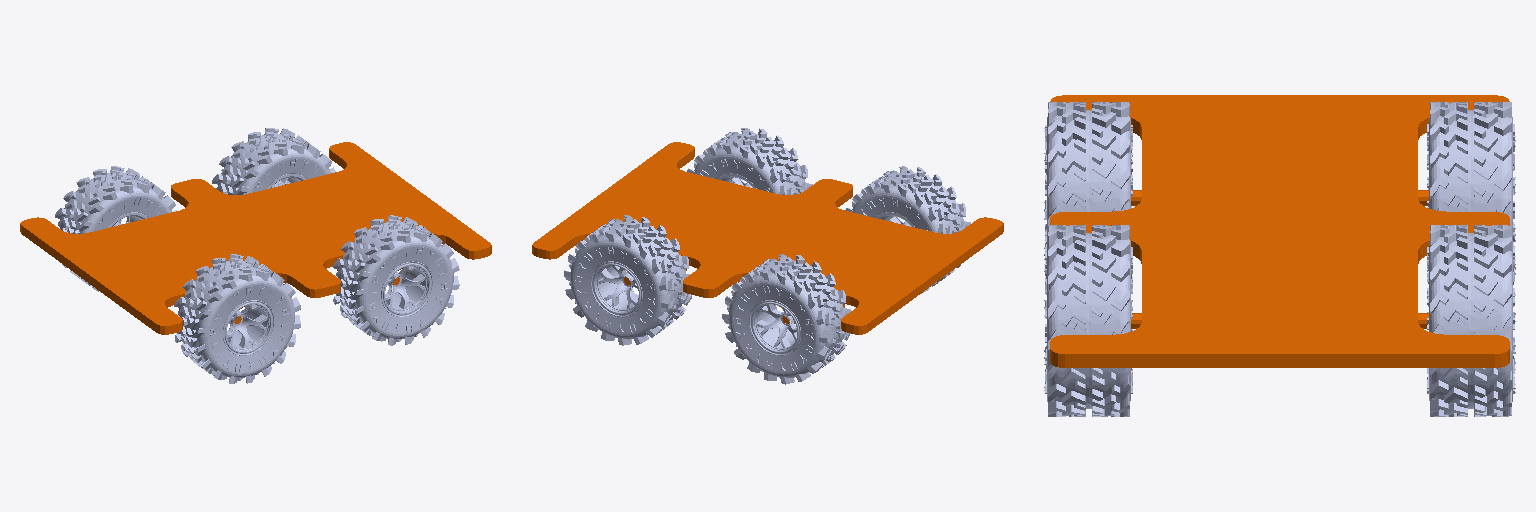
robot.urdf — berserkers_robot_1:
<?xml version="1.0" encoding="utf-8"?>
<!-- This URDF was automatically created by SolidWorks to URDF Exporter! Originally created by [author] ([email redacted]) 
     Commit Version: 1.6.0-4-g7f85cfe  Build Version: 1.6.7995.38578
     For more information, please see http://wiki.ros.org/sw_urdf_exporter -->
<robot
  name="berserkers_robot_1">
  <link
    name="Base_link">
    <inertial>
      <origin
        xyz="0 -5.5511E-17 -0.0082879"
        rpy="0 0 0" />
      <mass
        value="1.0329" />
      <inertia
        ixx="0.0049873"
        ixy="-1.4294E-18"
        ixz="1.8699E-19"
        iyy="0.013953"
        iyz="4.062E-19"
        izz="0.018805" />
    </inertial>
    <visual>
      <origin
        xyz="0 0 0"
        rpy="0 0 0" />
      <geometry>
        <mesh
          filename="package://berserkers_robot_1/meshes/Base_link.STL" />
      </geometry>
      <material
        name="">
        <color
          rgba="0.9098 0.44314 0.031373 1" />
      </material>
    </visual>
    <collision>
      <origin
        xyz="0 0 0"
        rpy="0 0 0" />
      <geometry>
        <mesh
          filename="package://berserkers_robot_1/meshes/Base_link.STL" />
      </geometry>
    </collision>
  </link>
  <link
    name="Wheel_A">
    <inertial>
      <origin
        xyz="8.6125E-09 9.6732E-09 0.029559"
        rpy="0 0 0" />
      <mass
        value="0.091411" />
      <inertia
        ixx="0.00014154"
        ixy="-7.027E-11"
        ixz="-1.7909E-11"
        iyy="0.00014154"
        iyz="-2.2393E-11"
        izz="0.00022525" />
    </inertial>
    <visual>
      <origin
        xyz="0 0 0"
        rpy="0 0 0" />
      <geometry>
        <mesh
          filename="package://berserkers_robot_1/meshes/Wheel_A.STL" />
      </geometry>
      <material
        name="">
        <color
          rgba="0.79216 0.81961 0.93333 1" />
      </material>
    </visual>
    <collision>
      <origin
        xyz="0 0 0"
        rpy="0 0 0" />
      <geometry>
        <mesh
          filename="package://berserkers_robot_1/meshes/Wheel_A.STL" />
      </geometry>
    </collision>
  </link>
  <joint
    name="Wheel_AJ"
    type="continuous">
    <origin
      xyz="-0.095 -0.095681 -0.025"
      rpy="1.5708 -0.68203 0" />
    <parent
      link="Base_link" />
    <child
      link="Wheel_A" />
    <axis
      xyz="0 0 1" />
    <limit
      effort="40"
      velocity="40" />
  </joint>
  <link
    name="Wheel_B">
    <inertial>
      <origin
        xyz="-1.0816E-09 -1.2893E-08 0.02832"
        rpy="0 0 0" />
      <mass
        value="0.091411" />
      <inertia
        ixx="0.00014154"
        ixy="1.2429E-11"
        ixz="-3.9088E-12"
        iyy="0.00014154"
        iyz="-2.8402E-11"
        izz="0.00022525" />
    </inertial>
    <visual>
      <origin
        xyz="0 0 0"
        rpy="0 0 0" />
      <geometry>
        <mesh
          filename="package://berserkers_robot_1/meshes/Wheel_B.STL" />
      </geometry>
      <material
        name="">
        <color
          rgba="0.79216 0.81961 0.93333 1" />
      </material>
    </visual>
    <collision>
      <origin
        xyz="0 0 0"
        rpy="0 0 0" />
      <geometry>
        <mesh
          filename="package://berserkers_robot_1/meshes/Wheel_B.STL" />
      </geometry>
    </collision>
  </link>
  <joint
    name="Wheel_BJ"
    type="continuous">
    <origin
      xyz="-0.095 0.15356 -0.025"
      rpy="1.5708 0.40973 0" />
    <parent
      link="Base_link" />
    <child
      link="Wheel_B" />
    <axis
      xyz="0 0 1" />
    <limit
      effort="40"
      velocity="40" />
  </joint>
  <link
    name="Wheel_C">
    <inertial>
      <origin
        xyz="1.0917E-09 -1.2911E-08 0.029559"
        rpy="0 0 0" />
      <mass
        value="0.091411" />
      <inertia
        ixx="0.00014154"
        ixy="-1.2429E-11"
        ixz="-3.9125E-12"
        iyy="0.00014154"
        iyz="2.8407E-11"
        izz="0.00022525" />
    </inertial>
    <visual>
      <origin
        xyz="0 0 0"
        rpy="0 0 0" />
      <geometry>
        <mesh
          filename="package://berserkers_robot_1/meshes/Wheel_C.STL" />
      </geometry>
      <material
        name="">
        <color
          rgba="0.79216 0.81961 0.93333 1" />
      </material>
    </visual>
    <collision>
      <origin
        xyz="0 0 0"
        rpy="0 0 0" />
      <geometry>
        <mesh
          filename="package://berserkers_robot_1/meshes/Wheel_C.STL" />
      </geometry>
    </collision>
  </link>
  <joint
    name="Wheel_CJ"
    type="continuous">
    <origin
      xyz="0.095 -0.095681 -0.025"
      rpy="1.5708 -0.57539 0" />
    <parent
      link="Base_link" />
    <child
      link="Wheel_C" />
    <axis
      xyz="0 0 1" />
    <limit
      effort="40"
      velocity="40" />
  </joint>
  <link
    name="Wheel_D">
    <inertial>
      <origin
        xyz="-1.0725E-09 -1.2907E-08 0.02832"
        rpy="0 0 0" />
      <mass
        value="0.091411" />
      <inertia
        ixx="0.00014154"
        ixy="1.2427E-11"
        ixz="-3.9063E-12"
        iyy="0.00014154"
        iyz="-2.8406E-11"
        izz="0.00022525" />
    </inertial>
    <visual>
      <origin
        xyz="0 0 0"
        rpy="0 0 0" />
      <geometry>
        <mesh
          filename="package://berserkers_robot_1/meshes/Wheel_D.STL" />
      </geometry>
      <material
        name="">
        <color
          rgba="0.79216 0.81961 0.93333 1" />
      </material>
    </visual>
    <collision>
      <origin
        xyz="0 0 0"
        rpy="0 0 0" />
      <geometry>
        <mesh
          filename="package://berserkers_robot_1/meshes/Wheel_D.STL" />
      </geometry>
    </collision>
  </link>
  <joint
    name="Wheel_DJ"
    type="continuous">
    <origin
      xyz="0.095 0.15356 -0.025"
      rpy="1.5708 1.024 0" />
    <parent
      link="Base_link" />
    <child
      link="Wheel_D" />
    <axis
      xyz="0 0 1" />
    <limit
      effort="40"
      velocity="40" />
  </joint>

        <gazebo>
    <plugin name="differential_drive_controller" filename="libgazebo_ros_diff_drive.so">
        <legacyMode>false</legacyMode>
        <alwaysOn>true</alwaysOn>
        <publishWheelTF>true</publishWheelTF>
        <publishTf>1</publishTf>
        <publishWheelJointState>true</publishWheelJointState>
        <updateRate>100.0</updateRate>
        <leftJoint>Wheel_AJ</leftJoint>
        <rightJoint>Wheel_BJ</rightJoint>
        <wheelSeparation>0.195</wheelSeparation>
        <wheelDiameter>0.125</wheelDiameter>
        <wheelAcceleration>0.5</wheelAcceleration>
        <torque>0.5</torque>
        <commandTopic>cmd_vel</commandTopic>
        <odometryTopic>odom</odometryTopic>
        <odometryFrame>odom</odometryFrame>
        <robotBaseFrame>Base_link</robotBaseFrame>
    </plugin>
</gazebo>

</robot>

--- Render facts (derived) ---
Views: 3 orthographic renders of the robot side by side, from view 1: azimuth 30°, elevation 25°; view 2: azimuth 150°, elevation 25°; view 3: azimuth 270°, elevation 25°.
Robot: berserkers_robot_1 — 5 links, 4 joints (4 continuous); root link Base_link; default pose: every joint at zero.
Links seen in each view (by area): view 1: Base_link, Wheel_C, Wheel_A, Wheel_B, Wheel_D; view 2: Base_link, Wheel_D, Wheel_B, Wheel_A, Wheel_C; view 3: Base_link, Wheel_C, Wheel_D, Wheel_A, Wheel_B.
Boxes of the visible links, box(x1,y1,x2,y2) form: Base_link: box(20, 142, 491, 334); Wheel_C: box(333, 215, 459, 345); Wheel_A: box(174, 254, 300, 383); Wheel_B: box(55, 166, 176, 291); Wheel_D: box(212, 128, 335, 194); Base_link: box(532, 142, 1003, 334); Wheel_D: box(564, 215, 691, 345); Wheel_B: box(722, 254, 850, 384); Wheel_A: box(845, 166, 970, 293); Wheel_C: box(687, 128, 812, 194); Base_link: box(1050, 95, 1509, 367); Wheel_C: box(1044, 225, 1132, 416); Wheel_D: box(1427, 225, 1515, 416); Wheel_A: box(1044, 102, 1132, 271); Wheel_B: box(1427, 102, 1515, 269).
Bounding box of the posed robot: 0.4 × 0.3071 × 0.125 m (x, y, z).
5 mesh visuals loaded from 5 distinct referenced files (5 binary STL).
